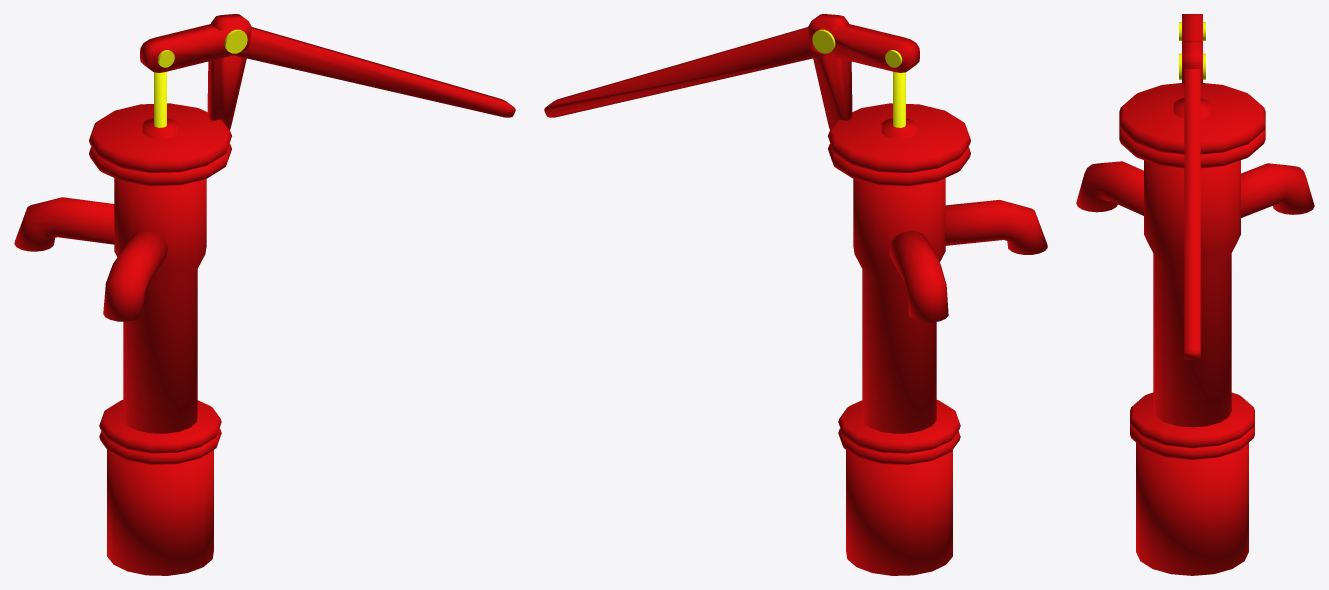
The model's file is Pomp.fbx.
3 renders of one model, left to right at view 1: azimuth 30°, elevation 25°; view 2: azimuth 150°, elevation 25°; view 3: azimuth 270°, elevation 25°, orthographic. The views are drawn at different scales.
Parts seen in each view (by area): view 1: PompBaseMesh, PormpHandleMesh, PompHolderMesh, PompTubeMesh; view 2: PompBaseMesh, PormpHandleMesh, PompHolderMesh, PompTubeMesh; view 3: PompBaseMesh, PormpHandleMesh, PompHolderMesh.
Part boxes in pixels (<box>): PompBaseMesh: <box>14,103,231,575</box>; PormpHandleMesh: <box>140,24,515,117</box>; PompHolderMesh: <box>207,14,251,130</box>; PompTubeMesh: <box>154,71,166,127</box>; PompBaseMesh: <box>828,103,1047,575</box>; PormpHandleMesh: <box>544,24,919,117</box>; PompHolderMesh: <box>808,14,852,130</box>; PompTubeMesh: <box>893,71,905,127</box>; PompBaseMesh: <box>1076,83,1314,575</box>; PormpHandleMesh: <box>1179,14,1205,359</box>; PompHolderMesh: <box>1183,40,1201,86</box>.
Size of the model in its own units: 1.76 by 1.94 by 0.7723.
